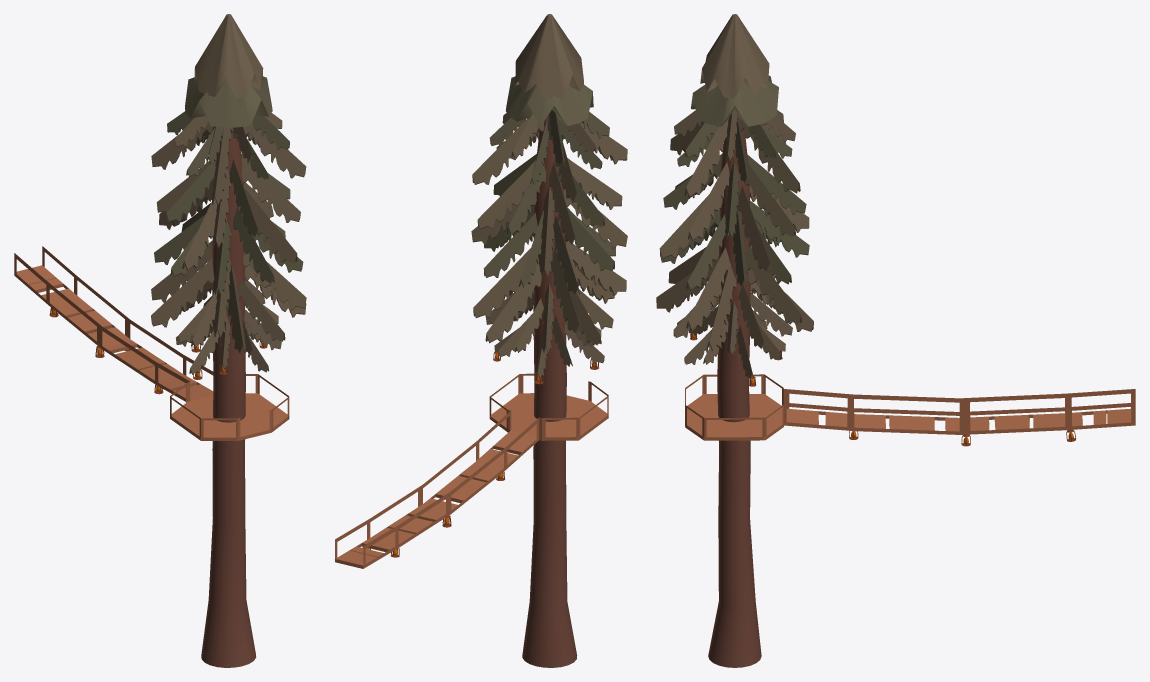
Rendered from Tree_And_Bridge_Ver2.fbx.
The picture shows the model from 3 angles, left to right: view 1: azimuth 30°, elevation 25°; view 2: azimuth 150°, elevation 25°; view 3: azimuth 270°, elevation 25°; orthographic projection.
Visible parts, largest first — view 1: Bridge_Tree, Bridge; view 2: Bridge_Tree, Bridge; view 3: Bridge_Tree, Bridge.
Part boxes in pixels (<box>): Bridge_Tree: <box>151,14,306,667</box>; Bridge: <box>14,246,289,440</box>; Bridge_Tree: <box>471,14,627,667</box>; Bridge: <box>335,373,608,568</box>; Bridge_Tree: <box>656,14,813,667</box>; Bridge: <box>685,374,1135,440</box>.
Bounding box in the file's own units: 8.03 × 38.17 × 25.88.
